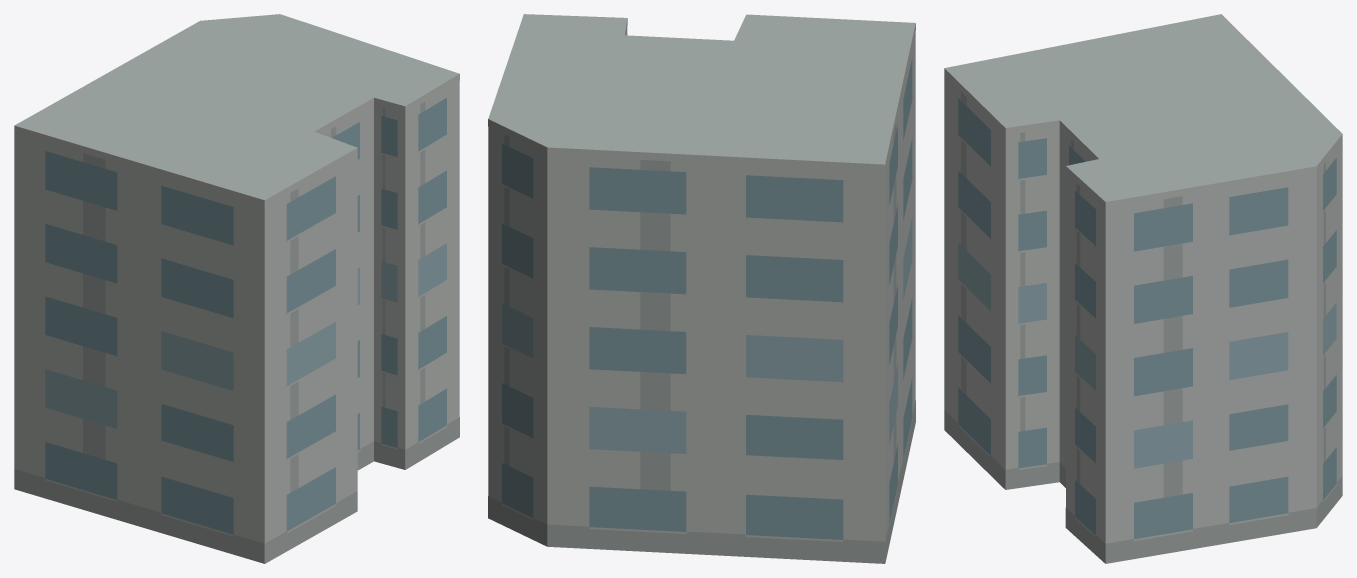
Rendered from survey-upis-32932587.glb.
3 renders of one model, left to right at view 1: azimuth 30°, elevation 25°; view 2: azimuth 150°, elevation 25°; view 3: azimuth 270°, elevation 25°, orthographic. The views are drawn at different scales.
Parts seen in each view (by area): view 1: survey-upis-32932587.tmp; view 2: survey-upis-32932587.tmp; view 3: survey-upis-32932587.tmp.
Part boxes in pixels (x1=…): survey-upis-32932587.tmp: x1=14, y1=14, x2=459, y2=563; survey-upis-32932587.tmp: x1=488, y1=14, x2=915, y2=563; survey-upis-32932587.tmp: x1=944, y1=14, x2=1342, y2=563.
Size of the model in its own units: 14.11 by 12.65 by 12.63.
